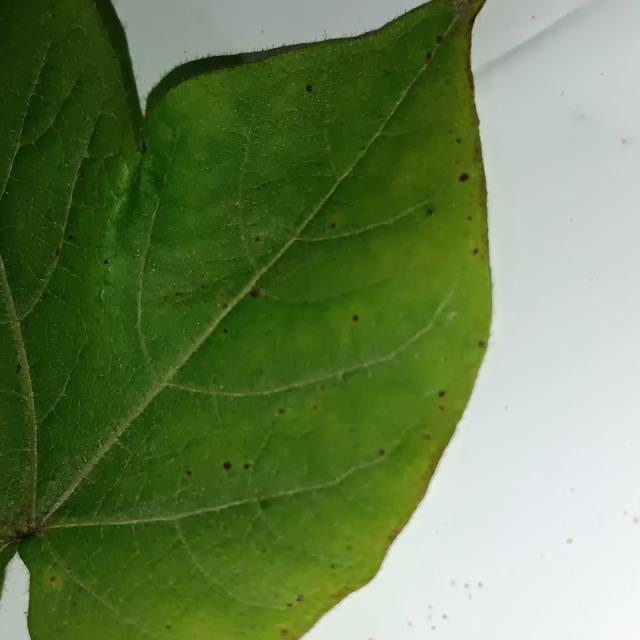Bacterial_Blight: (442, 576, 485, 620), (278, 592, 309, 630), (619, 506, 640, 526), (220, 459, 252, 472), (218, 457, 239, 474), (46, 574, 61, 591), (332, 589, 349, 601), (459, 173, 469, 182), (77, 173, 85, 182), (478, 340, 486, 348), (426, 208, 434, 216), (15, 364, 22, 373), (387, 534, 396, 541), (378, 448, 385, 456), (295, 595, 303, 602), (280, 628, 288, 635), (436, 36, 443, 44), (352, 315, 359, 322), (438, 390, 445, 397), (41, 292, 47, 300), (278, 408, 285, 414), (330, 222, 336, 229), (424, 434, 431, 440), (438, 405, 445, 411), (345, 545, 352, 551), (426, 52, 432, 59), (49, 576, 56, 582), (186, 470, 192, 476), (255, 236, 261, 242), (472, 248, 478, 254), (67, 235, 73, 241), (56, 247, 60, 256), (175, 291, 182, 296), (286, 602, 292, 607), (103, 259, 109, 264), (456, 137, 461, 143), (320, 385, 325, 391), (467, 215, 472, 221), (165, 624, 171, 629), (51, 475, 56, 481), (330, 563, 335, 569), (78, 587, 83, 593), (442, 614, 447, 620), (313, 405, 318, 410), (144, 523, 149, 527)
